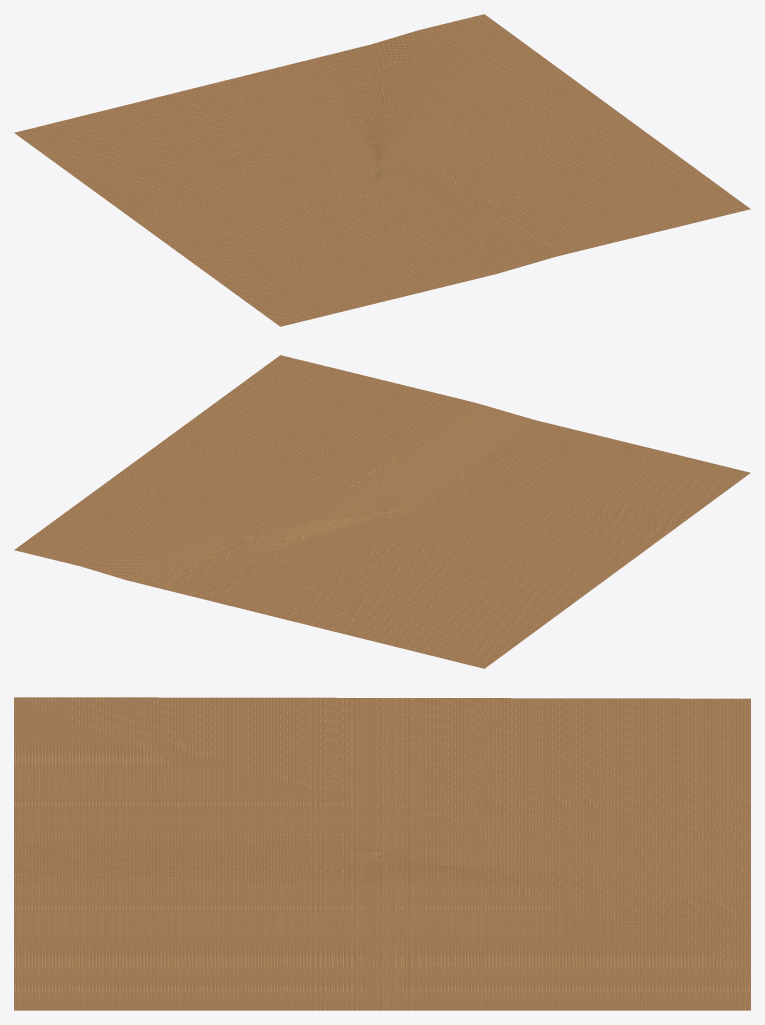
Rendered from Mirleft_Bay_NO_TREES_CARS_compressed.glb.
The picture shows the model from 3 angles, top to bottom: view 1: azimuth 30°, elevation 25°; view 2: azimuth 150°, elevation 25°; view 3: azimuth 270°, elevation 25°; orthographic projection. The views are drawn at different scales.
Visible parts, largest first — view 1: TERRAIN_FAR; view 2: TERRAIN_FAR; view 3: TERRAIN_FAR.
Part boxes in pixels (x1,y1,x2,y2): TERRAIN_FAR: (14, 14, 750, 326); TERRAIN_FAR: (14, 355, 750, 668); TERRAIN_FAR: (14, 697, 750, 1010).
Size of what is drawn, in the model's own units: 62800 by 498 by 61600.
Materials: 21 (11 with a texture image).
